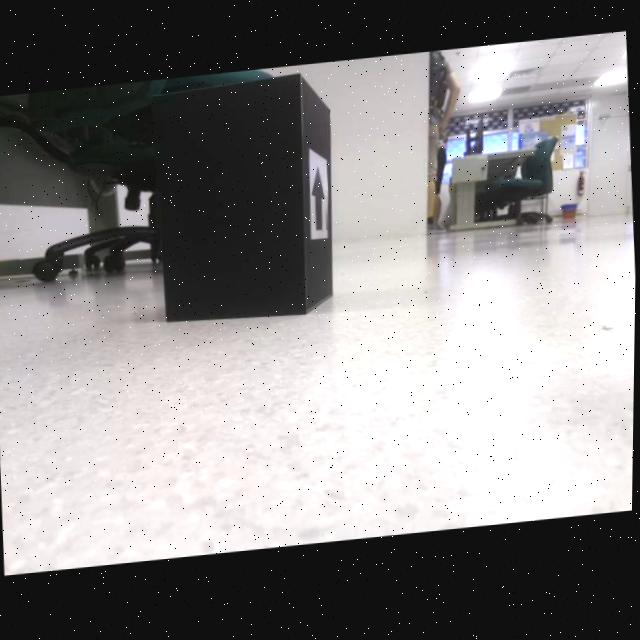UP: (312, 170, 327, 235)
